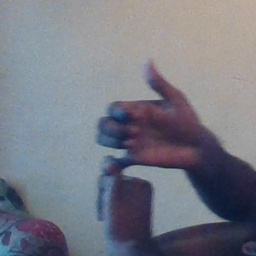S: (86, 51, 209, 234)
